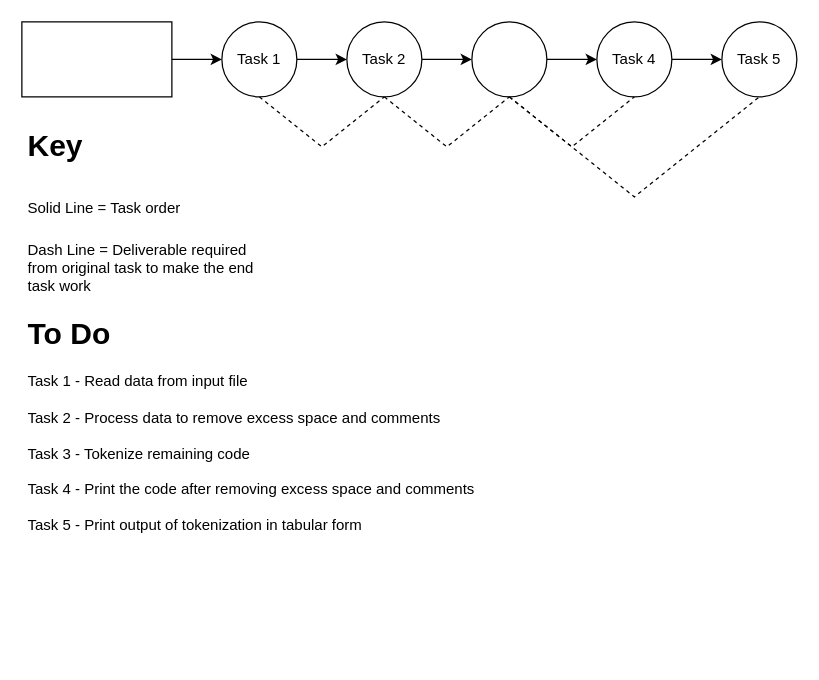
Image size: 819x680. Some labels were removed from this diagram. Here are the shapes that lost their labels. From the top down, the centre of each, then its label:
At (x=96, y=59): "FULL PROJECT CODE".
At (x=509, y=59): "Task 3".
